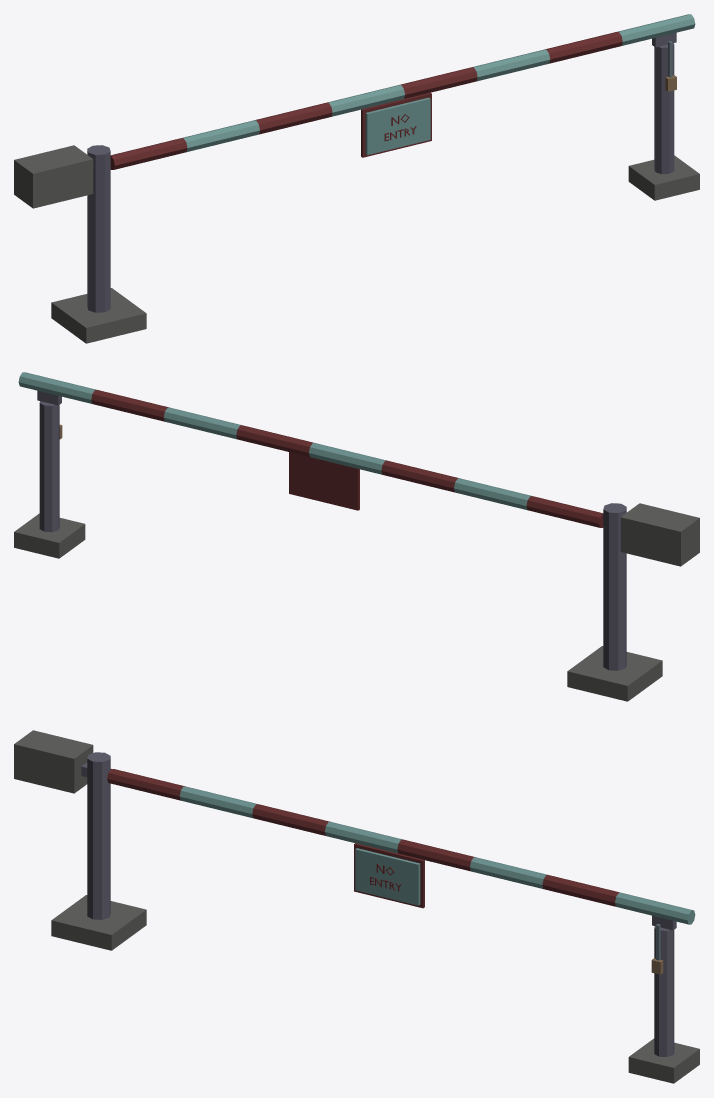
File: bariera.glb
3 views of the same model, one above another, from view 1: azimuth 30°, elevation 25°; view 2: azimuth 150°, elevation 25°; view 3: azimuth 330°, elevation 25° (orthographic).
Parts seen in each view (by area): view 1: Bara, Bariera; view 2: Bara, Bariera; view 3: Bara, Bariera.
Part boxes in pixels (x1=…): Bara: x1=14, y1=14, x2=695, y2=208; Bariera: x1=51, y1=32, x2=699, y2=343; Bara: x1=18, y1=372, x2=699, y2=566; Bariera: x1=14, y1=390, x2=662, y2=701; Bara: x1=14, y1=730, x2=695, y2=924; Bariera: x1=51, y1=752, x2=699, y2=1083.
Size of the model in its own units: 4.43 by 1.11 by 0.4.
